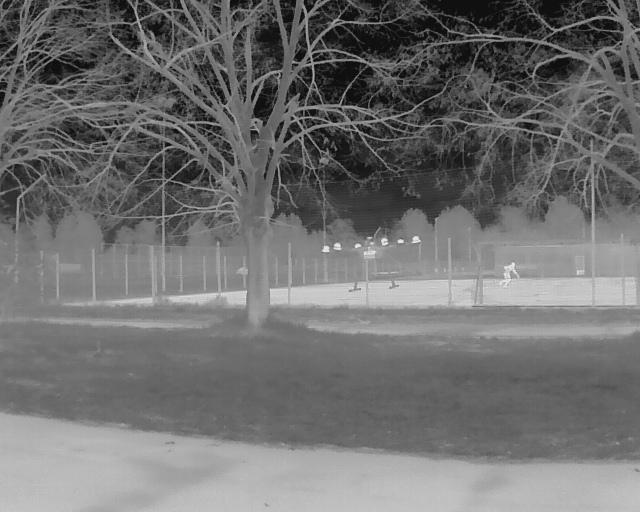drone: (320, 224, 426, 298)
